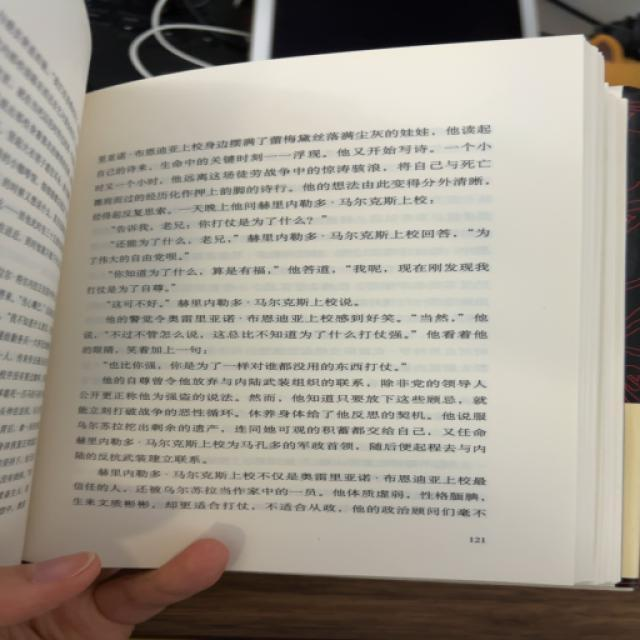document: (0, 28, 624, 576)
